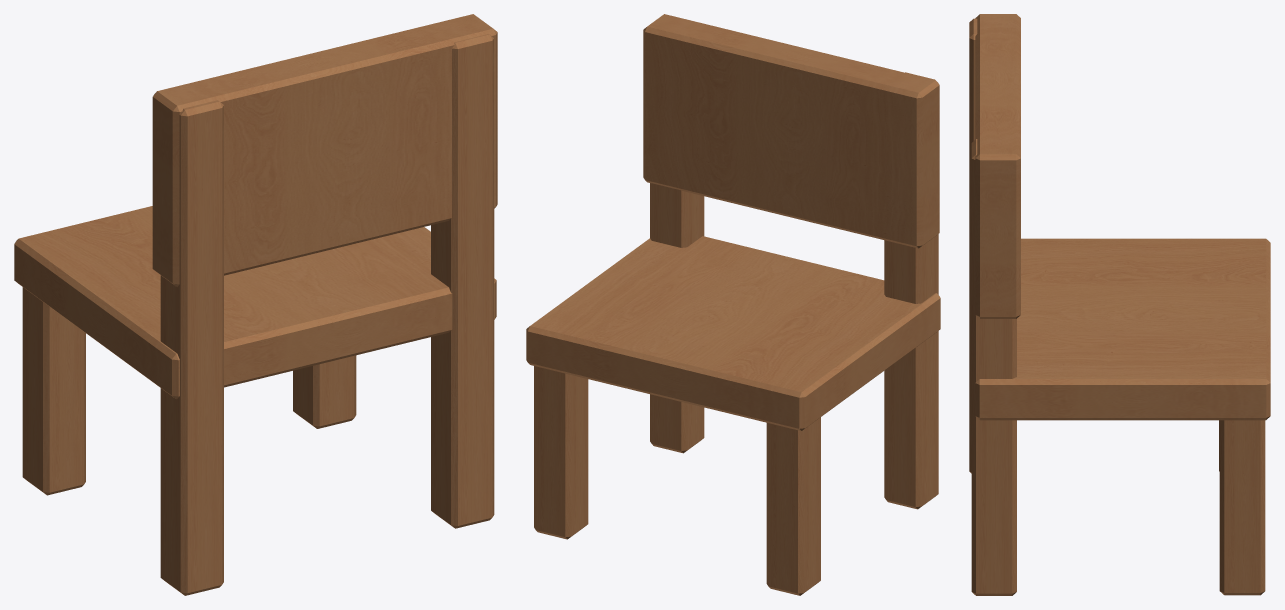
The model's file is Chair.fbx.
3 views of the same model, side by side, from view 1: azimuth 30°, elevation 25°; view 2: azimuth 150°, elevation 25°; view 3: azimuth 270°, elevation 25° (orthographic). The views are drawn at different scales.
Visible parts, largest first — view 1: Chair; view 2: Chair; view 3: Chair.
Boxes of the visible parts, left/top/right/bottom form: Chair: left=14, top=14, right=497, bottom=595; Chair: left=526, top=14, right=940, bottom=595; Chair: left=969, top=14, right=1270, bottom=595.
Bounding box in the file's own units: 5.04 × 7.22 × 4.44.
